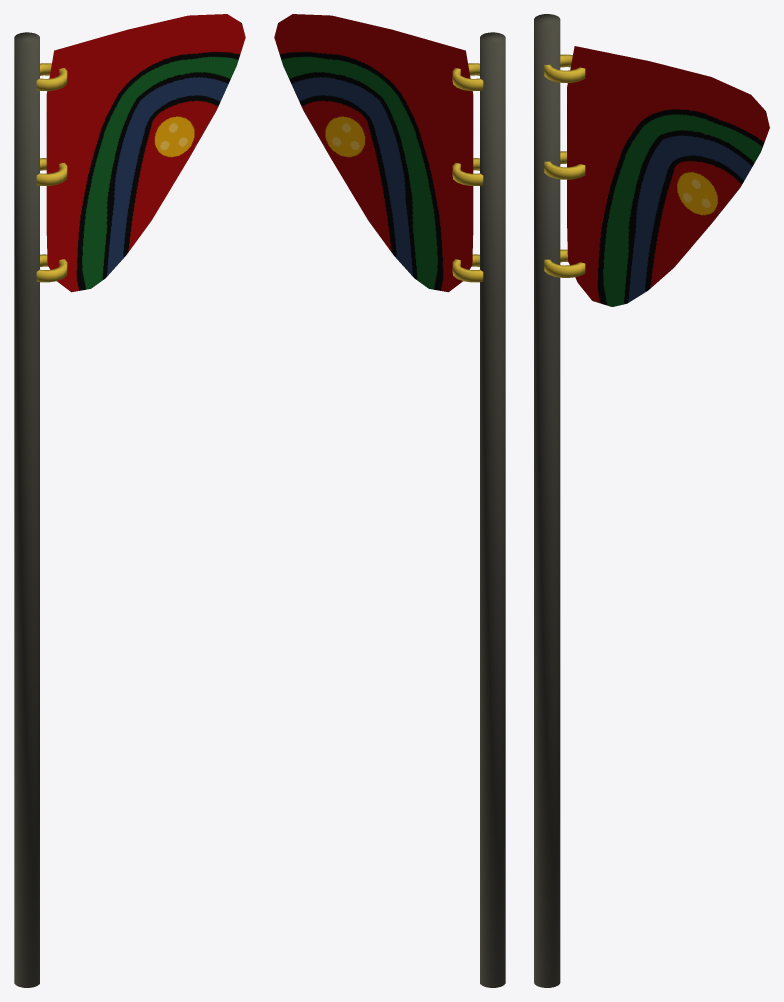
File: flag.fbx
The picture shows the model from 3 angles, left to right: view 1: azimuth 30°, elevation 25°; view 2: azimuth 150°, elevation 25°; view 3: azimuth 330°, elevation 25°; orthographic projection.
Visible parts, largest first — view 1: Cylinder; view 2: Cylinder; view 3: Cylinder.
Part boxes in pixels (x1,y1,x2,y2): Cylinder: (14, 14, 245, 987); Cylinder: (274, 14, 505, 987); Cylinder: (534, 14, 769, 987).
Bounding box in the file's own units: 0.4987 × 1.96 × 0.0824.
